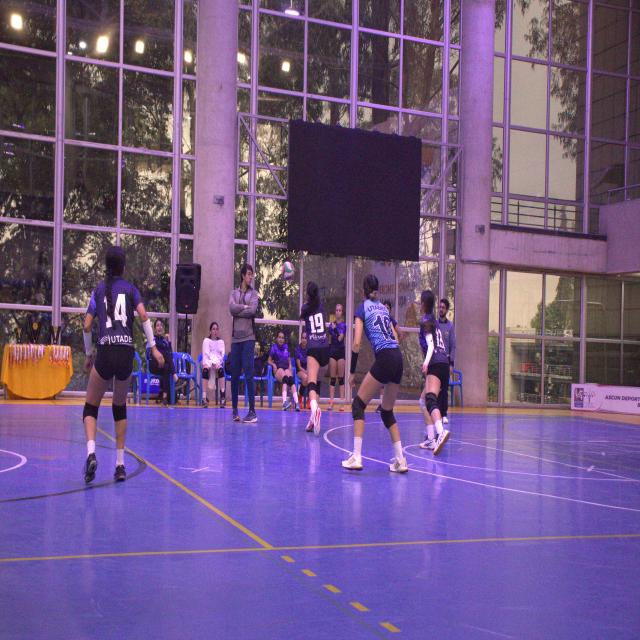volleyball: (282, 262, 296, 282)
